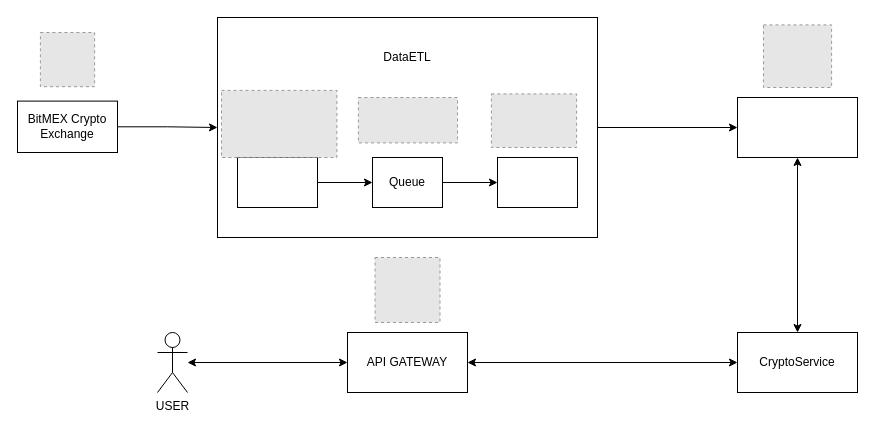
Some shapes in this 875 by 431 pixel diagram are drawn without their labels. Grey dashed boxes stand in for pictures. Here are the shapes that lost their labels. From the top down, the centre of each, then its label:
At (797,127): "StreamDatabase".
At (277,182): "WebSocket".
At (537,182): "Spark Transorm/Load".
